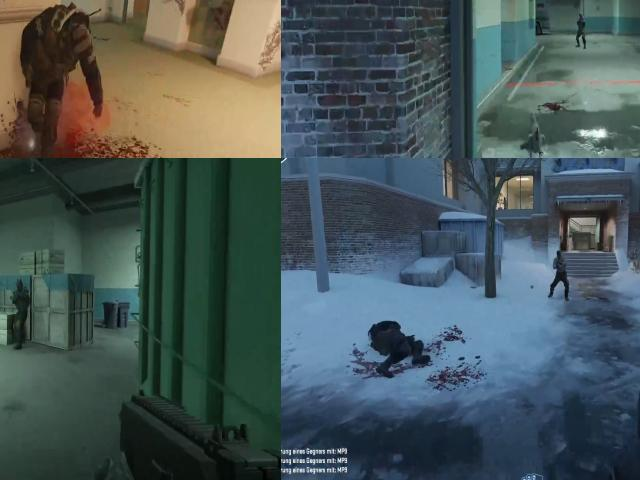CT: (8, 272, 34, 343), (575, 11, 586, 35)
CT-Head: (15, 278, 24, 294), (577, 12, 584, 22)
Dead: (8, 1, 101, 143), (360, 314, 436, 380)
T: (552, 249, 568, 283)
T-Head: (553, 251, 565, 261)
